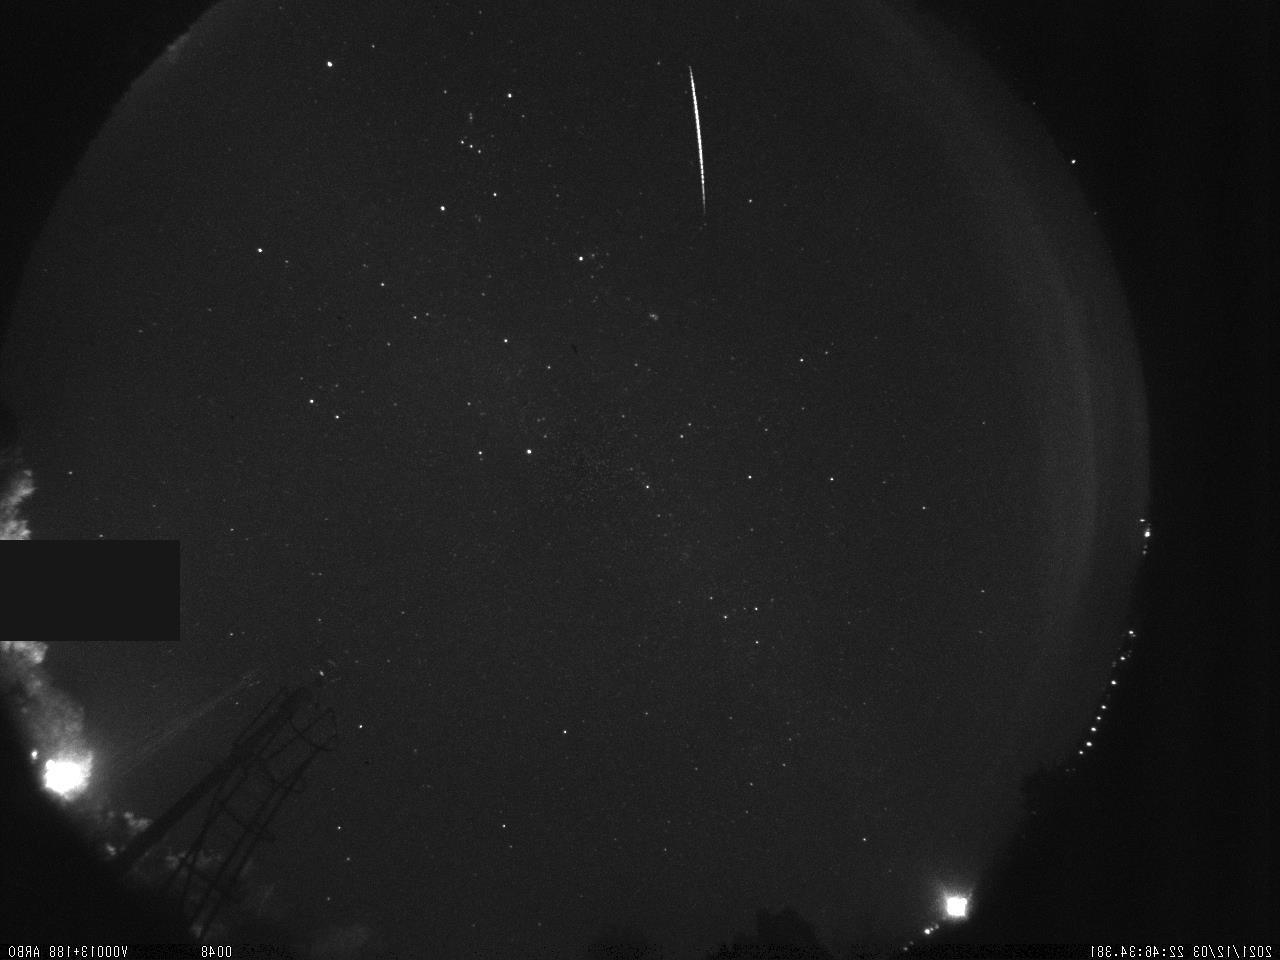meteor: (669, 59, 723, 220)
